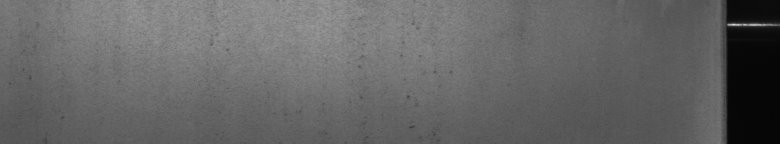ib: (351, 14, 453, 129)
